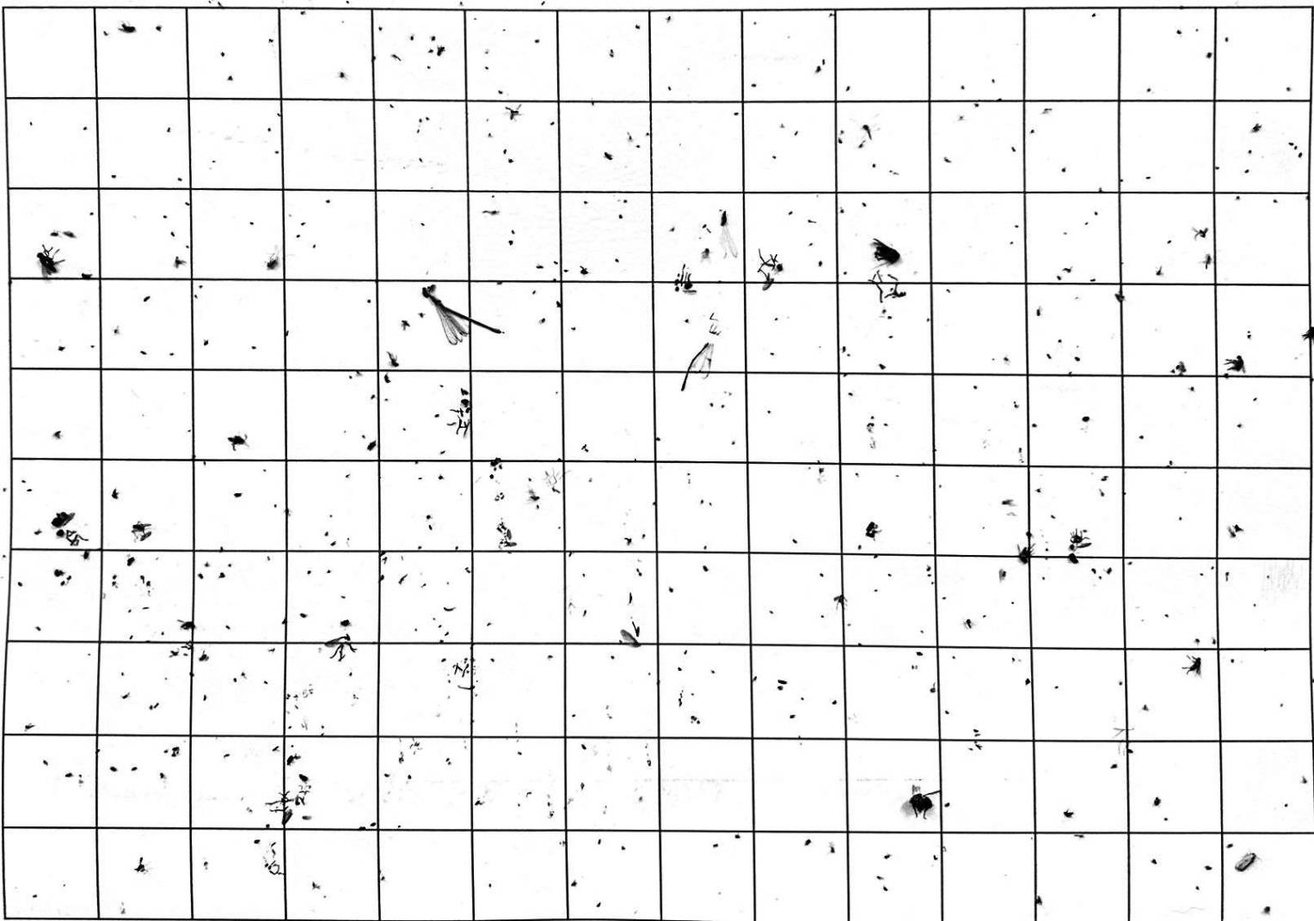fly: (31, 241, 68, 277), (868, 238, 902, 266), (1179, 652, 1204, 676), (1014, 541, 1037, 565), (1223, 352, 1248, 373)
test: (417, 279, 507, 350), (905, 787, 943, 819), (325, 632, 359, 664), (672, 261, 699, 295), (617, 621, 647, 649), (1068, 527, 1093, 551), (1234, 850, 1260, 872), (224, 430, 249, 451), (50, 510, 78, 528), (264, 251, 282, 275), (864, 521, 884, 541), (503, 102, 523, 122), (116, 19, 138, 36), (860, 122, 878, 142), (1169, 359, 1189, 377), (1227, 521, 1245, 540), (885, 284, 909, 298), (1191, 224, 1209, 241), (832, 593, 850, 610), (1299, 324, 1314, 344), (176, 616, 197, 630), (386, 349, 401, 368), (135, 856, 150, 874), (1198, 252, 1212, 269), (173, 255, 187, 271), (717, 209, 729, 227), (1249, 121, 1265, 134), (285, 753, 301, 766), (488, 457, 504, 469), (480, 208, 501, 217), (435, 44, 449, 57), (699, 247, 712, 261), (1067, 552, 1080, 565), (400, 317, 412, 331), (198, 649, 210, 663), (501, 539, 519, 548), (1062, 809, 1075, 821), (80, 548, 92, 561), (997, 567, 1007, 582), (774, 261, 786, 273), (1114, 292, 1126, 304), (1261, 904, 1273, 916), (622, 536, 634, 548), (963, 617, 974, 630), (1232, 522, 1245, 533), (168, 649, 181, 660), (63, 230, 77, 240), (80, 271, 92, 282), (382, 373, 393, 385), (366, 439, 377, 451), (170, 746, 181, 758), (689, 714, 701, 725), (49, 229, 62, 239), (579, 264, 589, 277), (1001, 497, 1014, 507), (52, 567, 65, 577), (337, 69, 348, 80), (125, 556, 136, 567), (110, 488, 120, 500), (458, 386, 470, 396), (602, 151, 614, 161), (391, 52, 403, 62), (1153, 795, 1163, 807), (1032, 895, 1044, 905), (398, 573, 408, 585), (442, 604, 457, 612), (23, 721, 35, 731), (297, 773, 309, 783), (338, 618, 351, 627), (461, 397, 471, 408), (1042, 106, 1053, 116), (216, 570, 227, 580), (505, 528, 515, 539), (311, 882, 323, 891), (528, 493, 541, 501), (554, 300, 564, 310), (865, 420, 875, 430), (827, 843, 837, 853), (56, 529, 66, 539), (141, 294, 152, 303), (551, 486, 562, 495), (877, 362, 888, 371), (119, 692, 130, 701), (270, 744, 281, 753), (676, 697, 685, 708), (282, 328, 290, 340), (627, 590, 633, 606), (53, 430, 62, 440), (101, 29, 110, 39), (663, 14, 672, 24), (813, 64, 822, 74), (943, 156, 953, 165), (1154, 266, 1163, 276), (1100, 473, 1109, 483), (138, 574, 148, 583), (63, 771, 73, 780), (112, 325, 120, 336), (928, 683, 936, 694), (1062, 265, 1074, 272), (234, 490, 243, 499), (283, 507, 292, 516), (581, 443, 590, 452), (155, 24, 164, 33), (1205, 50, 1214, 59), (974, 742, 983, 751), (579, 742, 588, 751), (130, 764, 139, 773), (159, 771, 168, 780), (41, 758, 50, 767), (534, 262, 544, 270), (958, 115, 966, 125), (1082, 415, 1092, 423), (1245, 330, 1253, 340), (1026, 529, 1034, 539), (1098, 487, 1106, 497), (1125, 747, 1135, 755), (1110, 761, 1118, 771), (1151, 857, 1159, 867), (882, 852, 892, 860), (803, 839, 813, 847), (109, 765, 119, 773), (608, 48, 615, 59), (298, 612, 309, 619), (301, 815, 312, 822), (202, 338, 210, 347), (139, 349, 148, 357), (538, 317, 546, 326), (621, 197, 629, 206), (369, 54, 377, 63), (429, 34, 437, 43), (837, 137, 845, 146), (1009, 145, 1017, 154), (1031, 421, 1039, 430), (1012, 400, 1020, 409), (1222, 372, 1231, 380), (702, 564, 710, 573), (777, 678, 789, 684), (1073, 833, 1085, 839), (788, 712, 797, 720), (33, 528, 42, 536), (153, 700, 161, 709), (464, 565, 472, 574), (419, 581, 427, 590), (252, 837, 261, 845), (57, 345, 67, 352), (355, 368, 362, 378), (807, 218, 817, 225), (1035, 307, 1042, 317), (1223, 571, 1230, 581), (1301, 775, 1308, 785), (635, 567, 642, 577), (378, 573, 385, 583), (222, 751, 232, 758), (168, 230, 176, 238), (418, 311, 426, 319), (614, 257, 622, 265), (458, 0, 466, 8), (827, 11, 835, 19), (667, 226, 675, 234), (700, 222, 708, 230), (1024, 678, 1032, 686), (943, 801, 951, 809), (733, 833, 741, 841), (34, 625, 42, 633), (59, 579, 67, 587), (224, 624, 232, 632), (201, 694, 209, 702), (281, 617, 289, 625), (383, 771, 391, 779), (398, 756, 406, 764), (570, 879, 578, 887), (646, 759, 654, 767), (637, 795, 645, 803), (495, 526, 503, 534), (183, 201, 192, 208), (227, 74, 234, 83), (217, 0, 224, 9), (634, 22, 641, 31), (626, 133, 633, 142), (750, 82, 759, 89), (845, 85, 852, 94), (1175, 29, 1184, 36), (1073, 355, 1082, 362), (1045, 352, 1052, 361), (845, 390, 854, 397), (817, 467, 826, 474), (914, 650, 923, 657), (932, 852, 939, 861), (710, 842, 719, 849), (145, 580, 152, 589), (268, 647, 277, 654), (204, 561, 211, 570), (440, 656, 449, 663), (596, 838, 603, 847), (343, 0, 353, 6), (821, 57, 827, 67), (1203, 865, 1213, 871), (180, 652, 190, 658), (357, 825, 367, 831), (184, 243, 191, 251), (176, 176, 184, 183), (310, 243, 318, 250), (368, 393, 376, 400), (330, 539, 337, 547), (425, 513, 433, 520), (427, 524, 434, 532), (381, 557, 389, 564), (379, 549, 386, 557), (419, 221, 427, 228), (510, 228, 517, 236), (507, 239, 514, 247), (570, 325, 578, 332), (617, 212, 624, 220), (501, 147, 508, 155), (486, 130, 493, 138), (417, 156, 424, 164), (533, 37, 541, 44), (496, 89, 504, 96), (548, 120, 556, 127), (589, 99, 596, 107), (860, 201, 868, 208), (1060, 166, 1068, 173), (1055, 274, 1063, 281), (1089, 277, 1097, 284), (1246, 148, 1254, 155), (1287, 141, 1295, 148), (1002, 355, 1010, 362), (880, 307, 888, 314), (840, 345, 847, 353), (1035, 486, 1043, 493), (1106, 566, 1113, 574), (818, 571, 825, 579), (777, 684, 784, 692), (831, 699, 839, 706), (856, 641, 863, 649), (944, 708, 951, 716), (1141, 704, 1149, 711), (1283, 801, 1290, 809), (875, 874, 883, 881), (972, 726, 979, 734), (547, 654, 555, 661), (26, 487, 34, 494), (111, 580, 118, 588), (188, 671, 196, 678), (263, 679, 270, 687), (285, 692, 292, 700), (202, 860, 210, 867), (264, 823, 272, 830), (445, 757, 452, 765), (474, 799, 482, 806), (379, 875, 387, 882), (413, 742, 421, 749), (633, 143, 642, 149), (786, 211, 795, 217), (1189, 384, 1195, 393), (1168, 459, 1174, 468), (666, 587, 675, 593), (641, 531, 647, 540), (568, 550, 574, 559), (66, 574, 72, 583), (142, 605, 151, 611), (30, 893, 39, 899), (407, 773, 413, 782), (463, 656, 469, 665), (169, 351, 176, 358), (366, 297, 373, 304), (439, 449, 446, 456), (534, 504, 541, 511), (556, 457, 563, 464), (165, 126, 172, 133), (267, 37, 274, 44), (299, 9, 306, 16), (377, 25, 384, 32), (427, 47, 434, 54), (960, 84, 967, 91), (817, 260, 824, 267), (1093, 210, 1100, 217), (945, 287, 952, 294), (1223, 36, 1230, 43), (1285, 86, 1292, 93), (1244, 168, 1251, 175), (769, 350, 776, 357), (972, 383, 979, 390), (683, 317, 690, 324), (1010, 656, 1017, 663), (1212, 638, 1219, 645), (676, 665, 683, 672), (1117, 680, 1124, 687), (1227, 842, 1234, 849), (799, 695, 806, 702), (1, 486, 8, 493), (17, 581, 24, 588), (265, 555, 272, 562), (227, 561, 234, 568), (327, 513, 334, 520), (436, 623, 443, 630), (489, 657, 496, 664), (438, 638, 445, 645), (369, 820, 376, 827), (647, 671, 654, 678), (161, 214, 169, 220), (110, 173, 118, 179), (553, 259, 559, 267), (82, 125, 88, 133), (266, 125, 272, 133), (645, 130, 651, 138), (793, 129, 799, 137), (839, 128, 845, 136), (1091, 11, 1097, 19), (1098, 186, 1104, 194), (842, 270, 850, 276), (1144, 174, 1152, 180), (885, 314, 893, 320), (887, 334, 895, 340), (842, 372, 850, 378), (882, 422, 890, 428), (1090, 567, 1096, 575), (1068, 370, 1074, 378), (926, 564, 932, 572), (1127, 559, 1133, 567), (651, 499, 657, 507), (19, 478, 27, 484), (112, 573, 118, 581), (198, 572, 204, 580), (120, 670, 126, 678), (148, 703, 154, 711), (93, 749, 101, 755), (352, 692, 358, 700), (579, 782, 585, 790), (506, 158, 515, 163), (972, 102, 981, 107), (581, 608, 586, 617), (198, 282, 204, 289), (249, 219, 255, 226), (295, 233, 302, 239), (201, 459, 207, 466), (454, 545, 460, 552), (218, 546, 224, 553), (531, 289, 537, 296), (563, 267, 569, 274), (488, 473, 495, 479), (582, 199, 589, 205), (526, 476, 533, 482), (27, 120, 34, 126), (276, 111, 282, 118), (409, 34, 415, 41), (389, 102, 395, 109), (424, 115, 431, 121), (418, 116, 424, 123), (415, 128, 421, 135), (538, 1, 545, 7), (501, 27, 508, 33), (667, 85, 673, 92), (859, 142, 866, 148), (871, 163, 877, 170), (839, 208, 845, 215), (1029, 128, 1035, 135), (1235, 195, 1241, 202), (1272, 198, 1279, 204), (1167, 239, 1173, 246), (1056, 337, 1062, 344), (766, 408, 772, 415), (1252, 395, 1258, 402), (1017, 446, 1023, 453), (1050, 513, 1056, 520), (791, 538, 798, 544), (856, 544, 863, 550), (886, 572, 893, 578), (1164, 612, 1170, 619), (910, 663, 916, 670), (919, 628, 925, 635), (1163, 816, 1169, 823), (1194, 885, 1201, 891), (128, 634, 134, 641), (232, 676, 238, 683), (306, 568, 312, 575), (325, 568, 332, 574), (347, 671, 354, 677), (292, 692, 298, 699), (293, 702, 299, 709), (396, 824, 403, 830), (516, 750, 523, 756), (596, 902, 603, 908), (620, 844, 626, 851), (587, 477, 594, 483), (769, 155, 779, 159), (1214, 165, 1222, 170), (924, 317, 932, 322), (703, 544, 708, 552), (683, 648, 688, 656), (89, 210, 95, 216), (251, 345, 257, 351), (300, 221, 306, 227), (413, 459, 419, 465), (220, 51, 226, 57), (274, 149, 280, 155), (211, 159, 217, 165), (426, 64, 432, 70), (485, 49, 491, 55), (733, 111, 739, 117), (753, 19, 759, 25), (990, 78, 996, 84), (1014, 223, 1020, 229), (1009, 240, 1015, 246), (779, 122, 785, 128), (1237, 422, 1243, 428), (1097, 574, 1103, 580), (1195, 637, 1201, 643), (753, 675, 759, 681), (1279, 702, 1285, 708), (610, 655, 616, 661), (571, 713, 577, 719), (240, 671, 246, 677), (443, 630, 449, 636), (287, 725, 293, 731), (290, 743, 296, 749), (487, 882, 493, 888), (549, 812, 555, 818), (1044, 556, 1050, 562), (325, 199, 332, 204), (437, 475, 444, 480), (324, 530, 329, 537), (655, 436, 662, 441), (807, 242, 814, 247), (1146, 86, 1151, 93), (1298, 152, 1303, 159), (855, 471, 860, 478), (700, 499, 705, 506), (873, 554, 880, 559), (820, 613, 825, 620), (1209, 564, 1214, 571), (1199, 571, 1204, 578), (1230, 658, 1235, 665), (883, 885, 888, 892), (340, 594, 347, 599), (163, 748, 170, 753), (516, 801, 521, 808), (498, 491, 505, 496), (90, 344, 95, 350), (347, 375, 353, 380), (439, 384, 445, 389), (401, 427, 407, 432), (361, 433, 367, 438), (345, 473, 351, 478), (417, 476, 423, 481), (417, 545, 422, 551), (490, 194, 496, 199), (484, 65, 489, 71), (1084, 221, 1090, 226), (1118, 178, 1124, 183), (1194, 27, 1200, 32), (1293, 145, 1299, 150), (709, 402, 714, 408), (731, 440, 736, 446), (1138, 435, 1144, 440), (929, 580, 935, 585), (951, 655, 957, 660), (769, 610, 774, 616), (1054, 685, 1060, 690), (1252, 602, 1257, 608), (581, 572, 586, 578), (1, 554, 7, 559), (127, 608, 132, 614), (487, 621, 492, 627), (319, 724, 325, 729), (319, 732, 325, 737), (86, 652, 92, 657), (547, 801, 552, 807), (895, 473, 901, 478), (981, 525, 986, 531), (194, 294, 199, 299), (434, 413, 439, 418), (473, 16, 478, 21), (720, 403, 725, 408), (870, 415, 875, 420), (1178, 516, 1183, 521), (686, 471, 691, 476), (708, 501, 713, 506), (937, 483, 942, 488), (927, 573, 932, 578), (981, 613, 986, 618), (413, 627, 418, 632), (447, 679, 452, 684), (188, 428, 192, 434), (710, 669, 716, 673), (161, 631, 165, 637), (432, 616, 436, 622), (525, 791, 531, 795), (384, 398, 389, 402), (273, 503, 277, 508), (774, 317, 779, 321), (875, 588, 879, 593), (941, 596, 946, 600), (1011, 600, 1015, 605), (1042, 575, 1046, 580), (1266, 574, 1270, 579), (557, 525, 561, 530), (501, 495, 505, 500), (816, 459, 820, 464), (807, 466, 812, 470), (261, 469, 267, 472), (1045, 547, 1048, 552)
